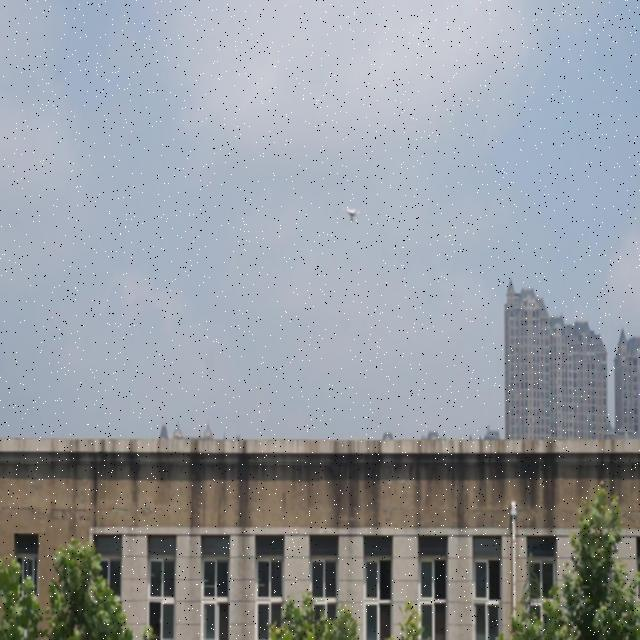UAV: (343, 207, 360, 223)
